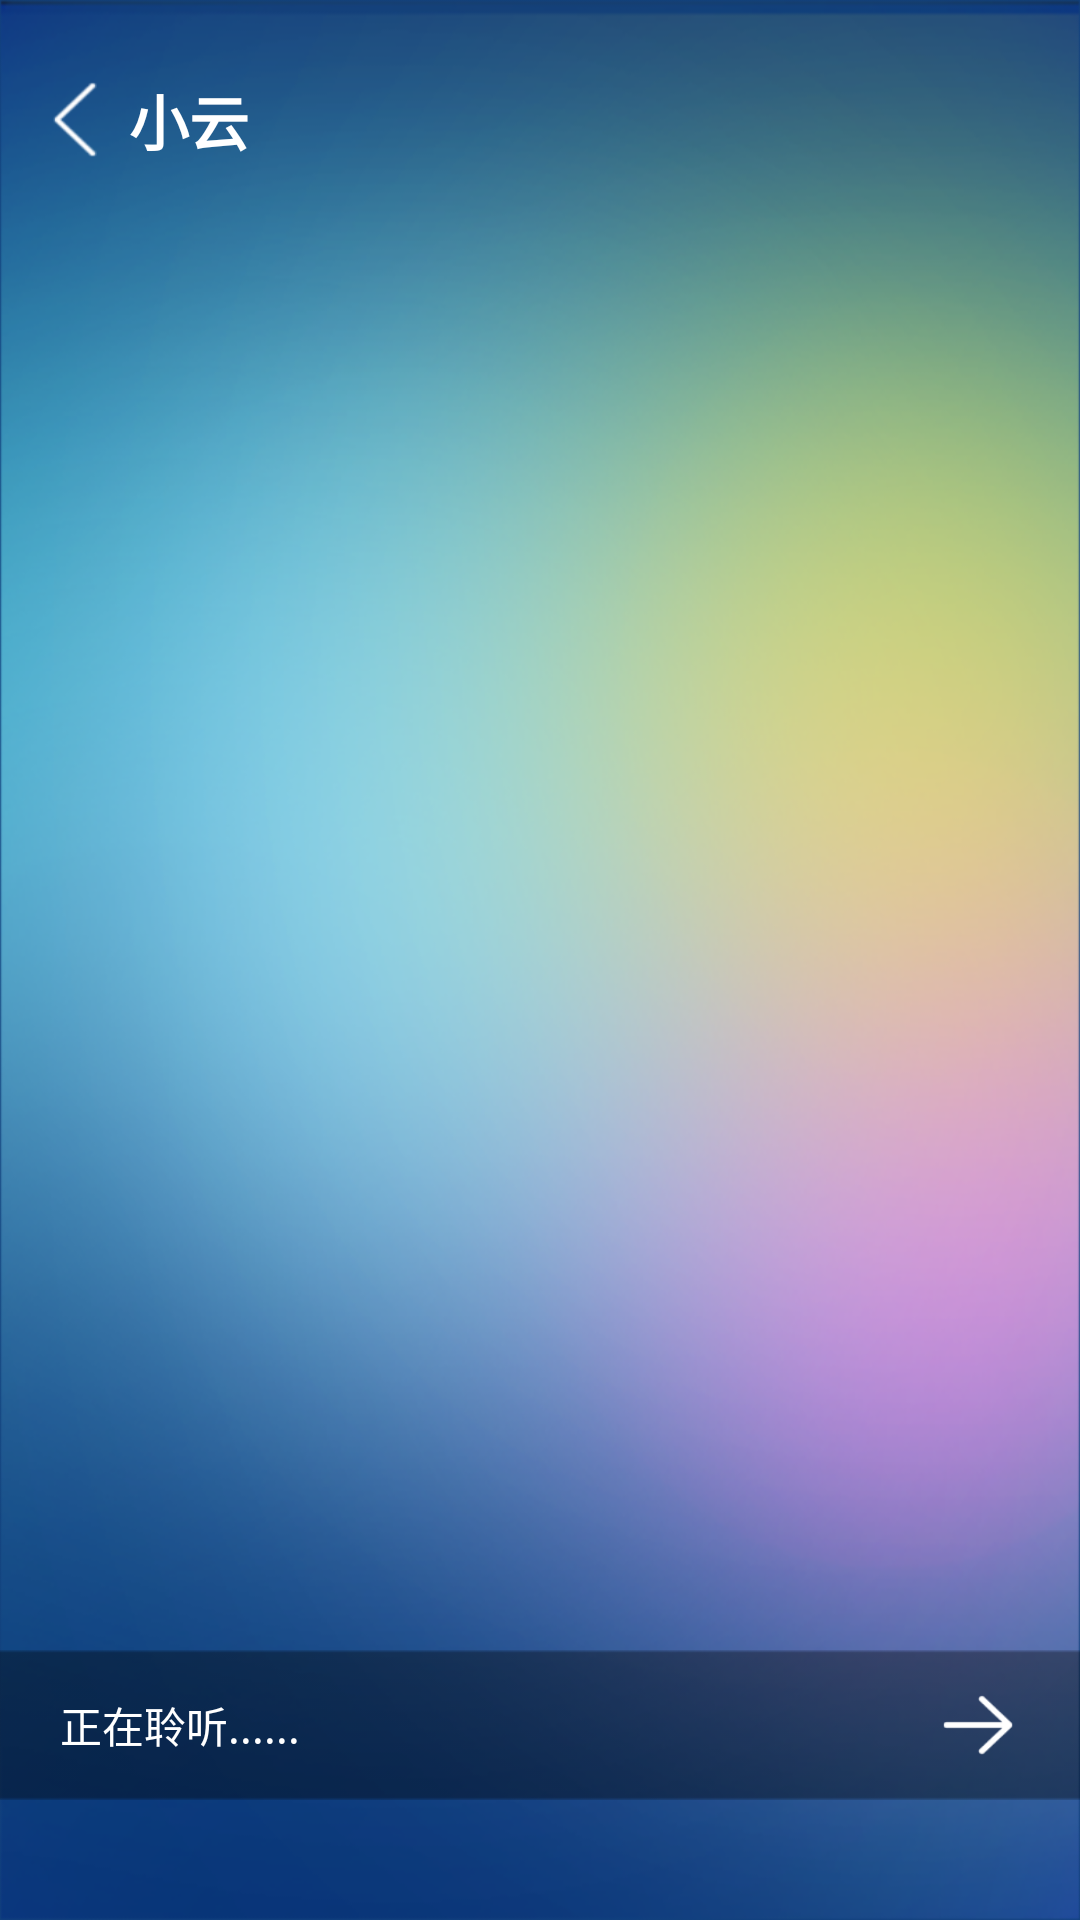

Where icons sit on this 1080 x 1920 app screen, as {"left": x1, "top": y1, "right": x2, "bottom": y2}:
chat left back: {"left": 54, "top": 83, "right": 97, "bottom": 157}
chat send arrow: {"left": 943, "top": 1695, "right": 1013, "bottom": 1755}
